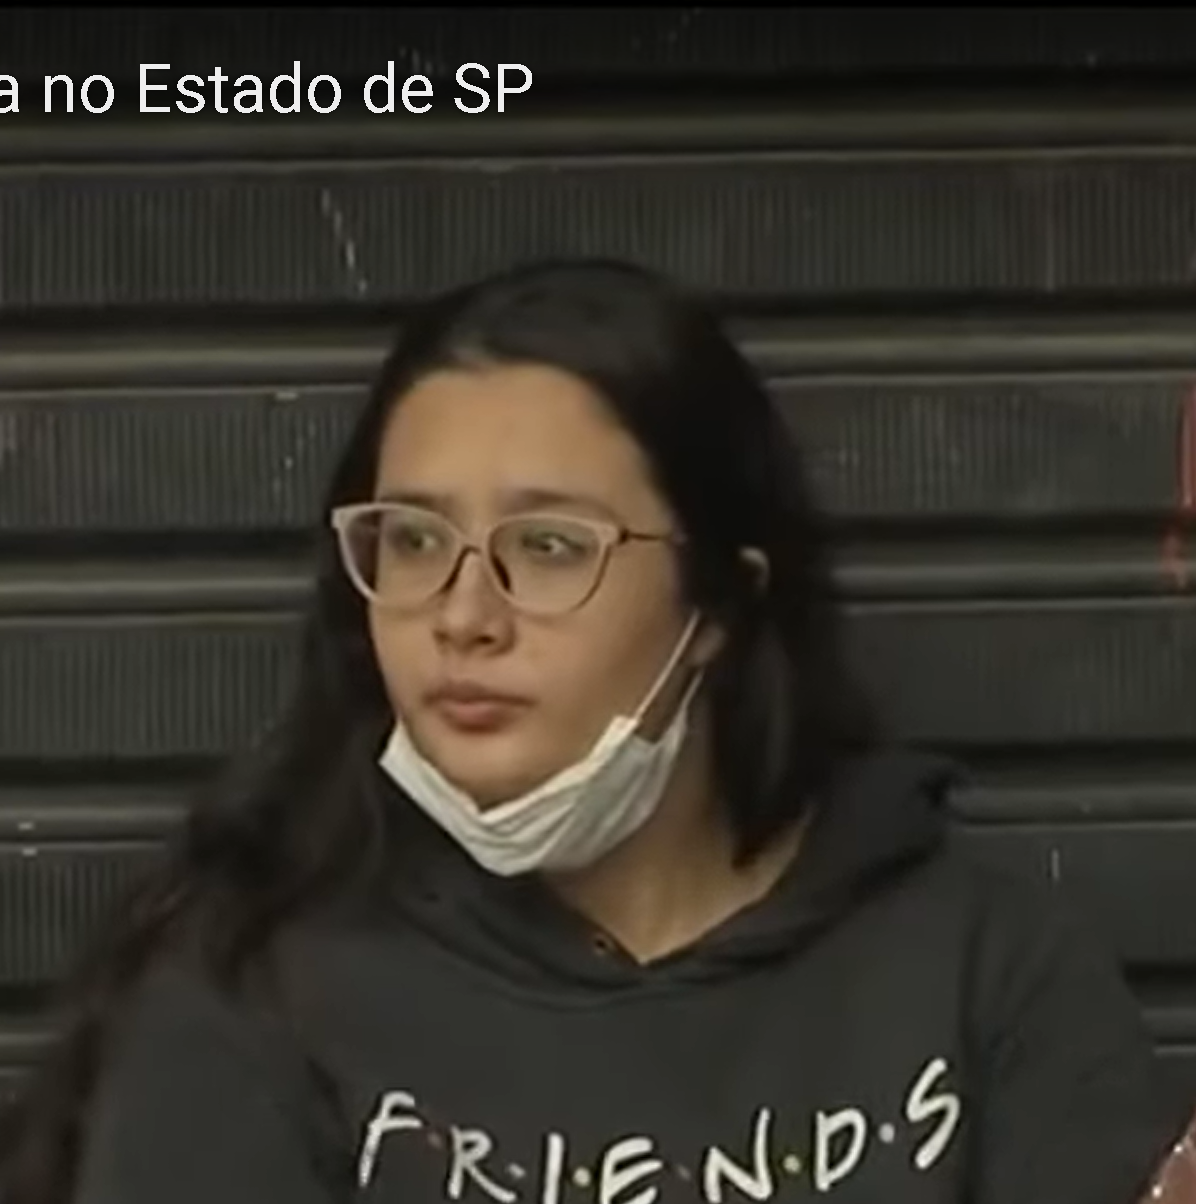mask_weared_incorrect: (323, 393, 780, 908)
